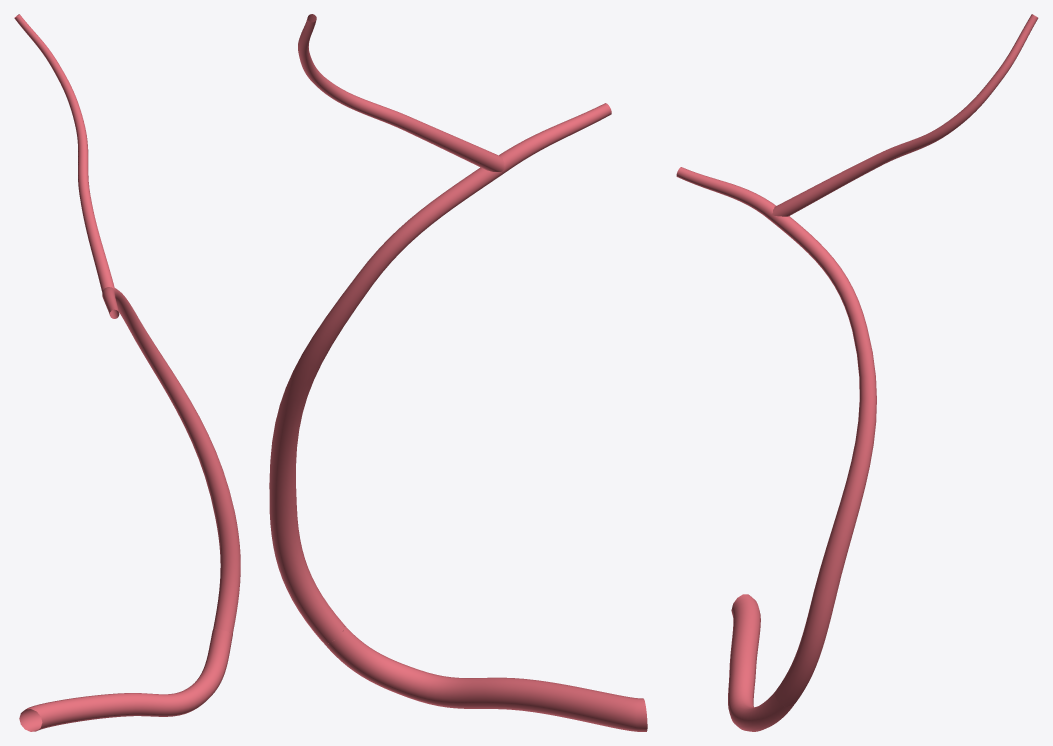
The picture shows the model from 3 angles, left to right: view 1: azimuth 30°, elevation 25°; view 2: azimuth 150°, elevation 25°; view 3: azimuth 270°, elevation 25°; orthographic projection. The views are drawn at different scales.
Parts seen in each view (by area): view 1: ZA_ed29808062135c0d; view 2: ZA_ed29808062135c0d; view 3: ZA_ed29808062135c0d.
Boxes of the visible parts, bbox=[...] form: ZA_ed29808062135c0d: bbox=[14, 14, 240, 731]; ZA_ed29808062135c0d: bbox=[269, 14, 647, 731]; ZA_ed29808062135c0d: bbox=[676, 14, 1038, 731].
Bounding box in the file's own units: 0.0206 × 0.0488 × 0.0232.
